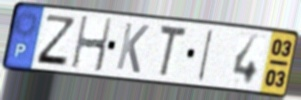4: (231, 32, 261, 87)
H: (69, 14, 114, 74)
I: (196, 27, 216, 83)
K: (114, 21, 152, 76)
T: (156, 23, 188, 81)
Z: (34, 13, 78, 69)
